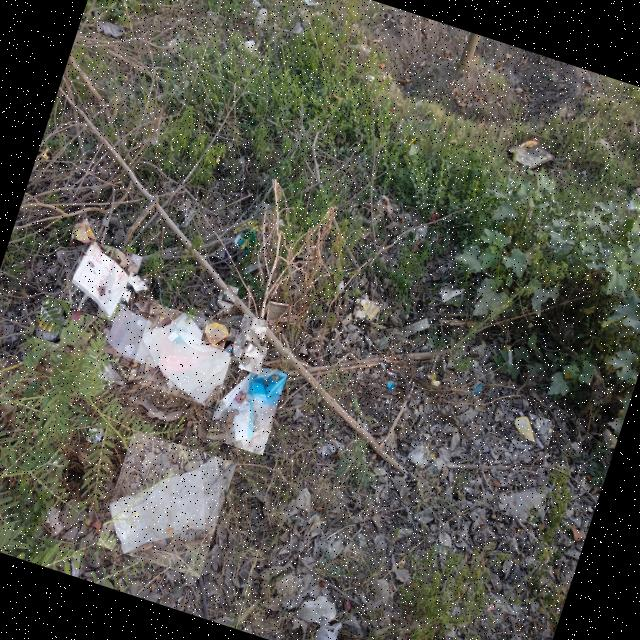Normal paper: (72, 243, 133, 321)
Other plastic: (316, 435, 343, 457), (74, 217, 95, 244), (524, 422, 553, 441), (360, 301, 381, 321), (380, 362, 397, 377), (432, 375, 441, 386), (387, 381, 395, 390)
Other plastic cup: (266, 303, 293, 323)
Plastic film: (110, 457, 220, 554), (139, 314, 245, 405), (212, 367, 287, 447), (107, 306, 160, 370), (35, 298, 65, 341), (234, 318, 261, 364), (508, 493, 546, 522), (97, 361, 125, 386), (240, 342, 262, 372), (314, 622, 342, 640), (204, 325, 228, 345), (98, 21, 126, 38), (223, 344, 241, 355)
Plastic lid: (410, 146, 418, 156)
Plastic straw: (518, 412, 544, 449), (405, 137, 416, 150)
Styrofoam piece: (276, 574, 304, 599), (404, 318, 430, 338), (428, 356, 448, 379), (440, 289, 465, 303), (218, 290, 232, 314)
Unlabeled litter: (509, 137, 555, 170), (129, 277, 148, 293), (87, 428, 103, 443), (225, 286, 238, 303), (235, 236, 248, 249), (472, 384, 482, 396), (343, 600, 351, 612)
